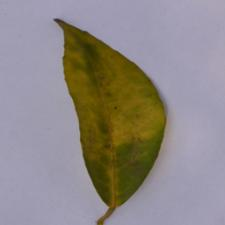Greening: (44, 20, 176, 193)
